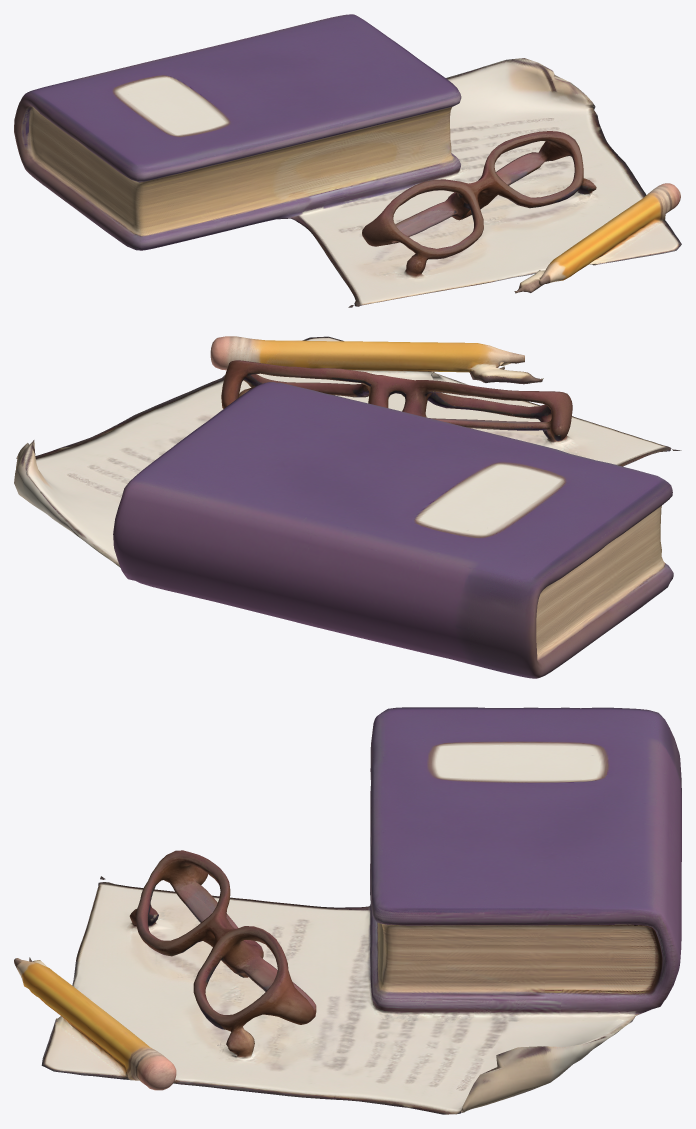
The model's file is Study_Essentials.glb.
3 views of the same model, one above another, from view 1: azimuth 30°, elevation 25°; view 2: azimuth 150°, elevation 25°; view 3: azimuth 270°, elevation 25° (orthographic). The views are drawn at different scales.
Size of the model in its own units: 1.9 by 0.3146 by 1.75.
1 material, 1 textured.
